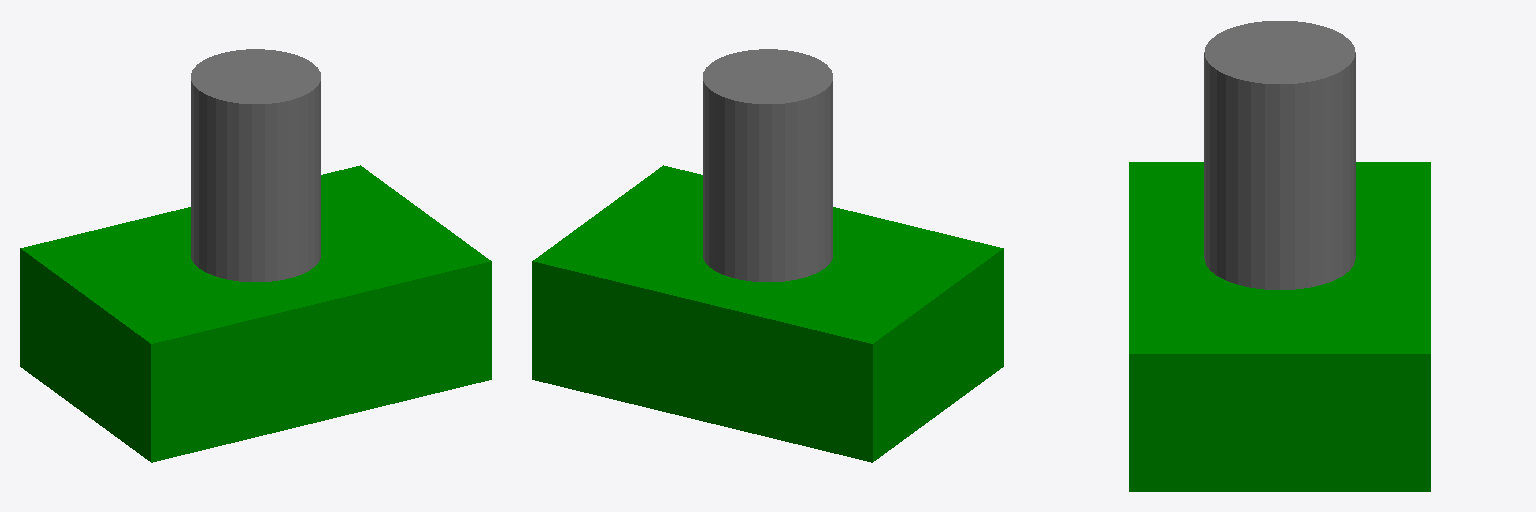
The robot description file, URDF, robot "my_robot":
<?xml version="1.0"?>

<!-- 
    Archivo URDF para definir un robot simple llamado "my_robot".
    Este robot tiene dos enlaces (links) y un único articulación (joint) revoluta.
    Puede ser utilizado en simuladores como Gazebo o visualizado en RViz.
-->

<robot name="my_robot">

    <!-- Definición de materiales -->
    <material name="green">
        <color rgba="0 0.6 0 1"/> <!-- Color verde -->
    </material>
    <material name="grey">
        <color rgba="0.5 0.5 0.5 1"/> <!-- Color gris -->
    </material>

    <!-- Definición del enlace base (base_link) -->
    <link name="base_link">
        <visual>
            <geometry>
                <box size="0.6 0.4 0.2"/> <!-- Caja con dimensiones 0.6 x 0.4 x 0.2 -->
            </geometry>
            <origin xyz="0 0 0.1" rpy="0 0 0"/> <!-- Posición del enlace en el marco de coordenadas -->
            <material name="green"/> <!-- Material verde -->
        </visual>
    </link>

    <!-- Definición del enlace del hombro (shoulder_link) -->
    <link name="shoulder_link">
        <visual>
            <geometry>
                <cylinder radius="0.1" length="0.3"/> <!-- Cilindro con radio 0.1 y longitud 0.3 -->
            </geometry>
            <origin xyz="0 0 0.15" rpy="0 0 0"/> <!-- Posición del enlace en el marco de coordenadas -->
            <material name="grey"/> <!-- Material gris -->
        </visual>
    </link>

    <!-- Definición de la articulación entre base_link y shoulder_link -->
    <joint name="base_shoulder_joint" type="revolute">
        <parent link="base_link"/> <!-- Enlace padre -->
        <child link="shoulder_link"/> <!-- Enlace hijo -->
        <origin xyz="0 0 0.2" rpy="0 0 0"/> <!-- Posición de la articulación -->
        <axis xyz="0 0 1"/> <!-- Eje de rotación (Z) -->
        <limit lower="-3.14" upper="3.14" effort="100" velocity="100"/> <!-- Límites de la articulación -->
    </joint>

</robot>

--- Facts derived from the render (not from the file) ---
The picture shows the robot from 3 angles, left to right: view 1: azimuth 30°, elevation 25°; view 2: azimuth 150°, elevation 25°; view 3: azimuth 270°, elevation 25°; orthographic projection.
Robot: my_robot — 2 links, 1 joints (1 revolute); root link base_link; default pose: every joint at zero.
Visible links, largest first — view 1: base_link, shoulder_link; view 2: base_link, shoulder_link; view 3: base_link, shoulder_link.
Boxes of the visible links, x1=… form: base_link: x1=20, y1=165, x2=491, y2=462; shoulder_link: x1=191, y1=49, x2=320, y2=281; base_link: x1=532, y1=165, x2=1003, y2=462; shoulder_link: x1=703, y1=49, x2=832, y2=281; base_link: x1=1129, y1=162, x2=1430, y2=491; shoulder_link: x1=1204, y1=21, x2=1355, y2=289.
Size in the robot's own frame: 0.6 by 0.4 by 0.5 metres.
Geometry: primitives only (box / cylinder / sphere), no mesh files.
